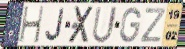G: (118, 6, 142, 44)
H: (18, 6, 45, 45)
J: (44, 7, 66, 43)
U: (91, 5, 119, 45)
X: (66, 5, 96, 45)
Z: (139, 7, 167, 44)
